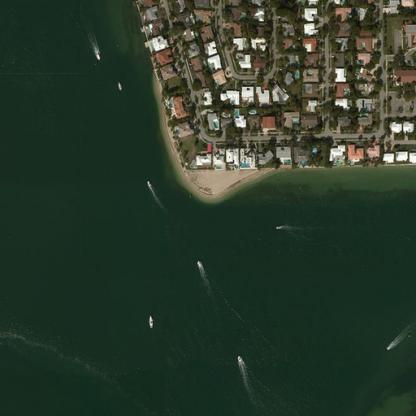ship: (146, 311, 154, 330), (272, 222, 284, 229), (116, 80, 123, 91), (235, 354, 244, 362), (94, 51, 101, 61), (146, 178, 151, 188), (384, 344, 389, 352), (196, 259, 201, 267)
